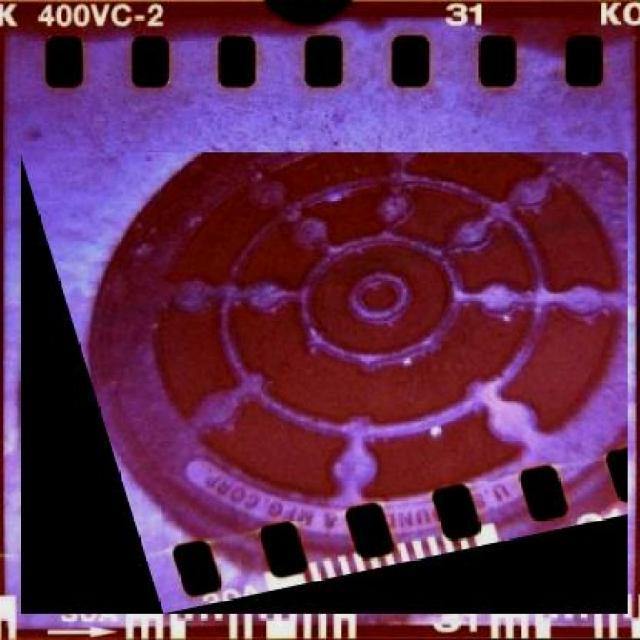Manhole: (20, 152, 628, 614)
